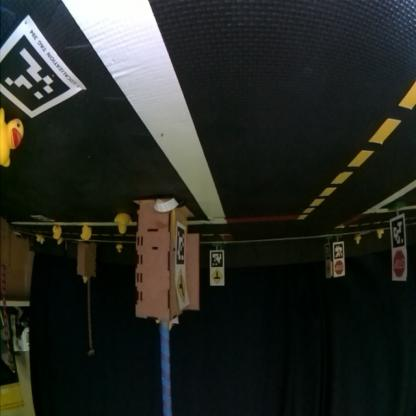Duckie: (2, 108, 24, 168), (116, 215, 132, 234), (82, 226, 92, 240), (54, 226, 59, 237), (117, 246, 123, 254), (82, 276, 88, 284)
Intersection sign: (176, 268, 190, 309), (212, 270, 224, 286)
QR code: (1, 18, 87, 118), (392, 218, 406, 246), (177, 226, 185, 264), (212, 252, 224, 268), (336, 244, 344, 258)
Stop sign: (394, 251, 406, 279), (336, 261, 346, 275)
